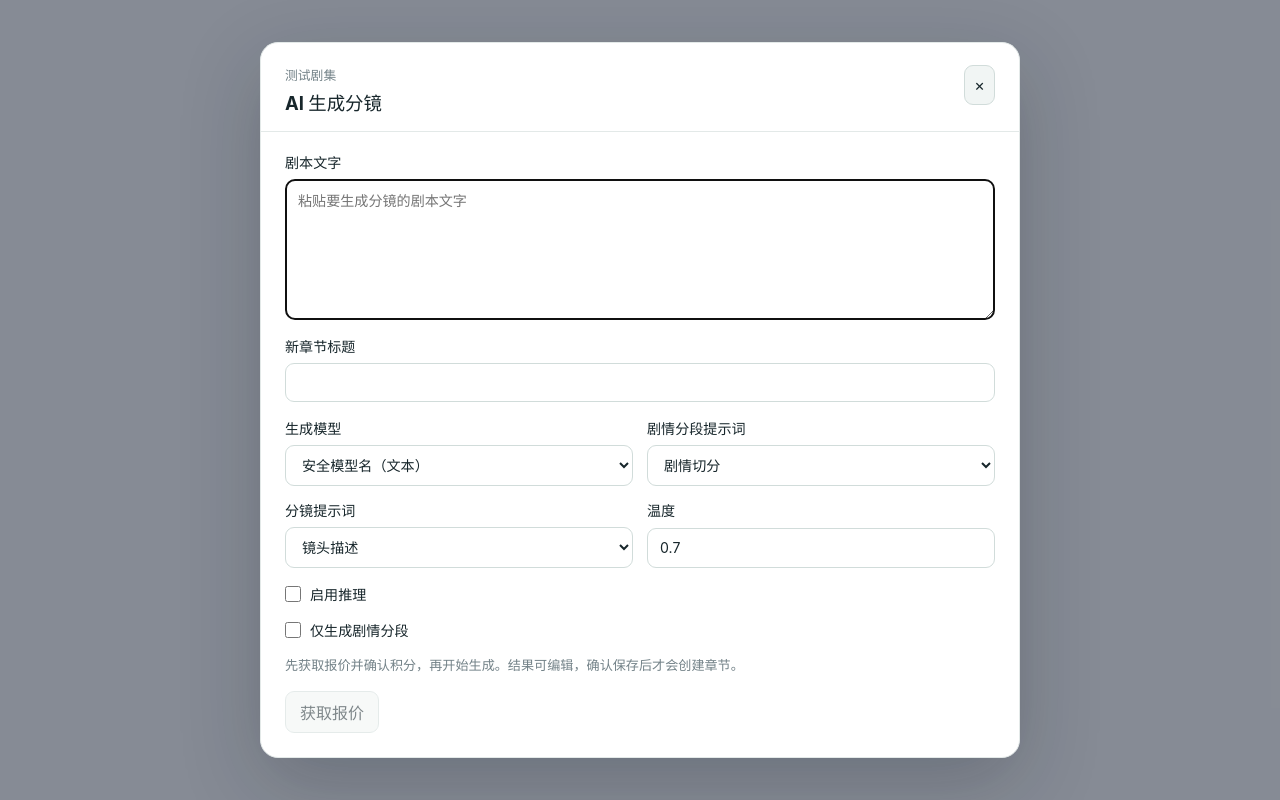
it: StoryboardGenerationDialog › freezes priced inputs while quoting and submits the quote for the captured input
Type "锁定剧本" into the text box with placeholder "粘贴要生成分镜的剧本文字" at [640, 249], box [285, 179, 995, 320]
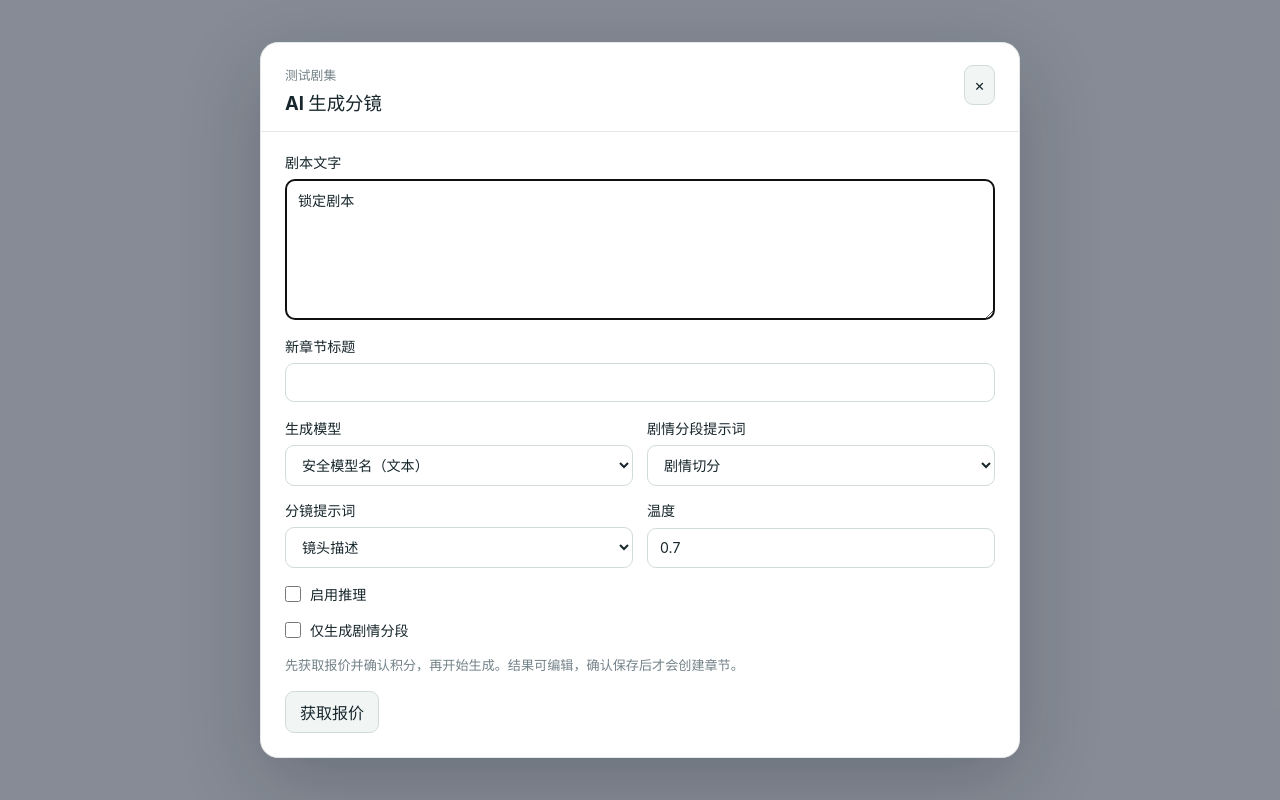
Type "报价前标题" into the field labelled "新章节标题" at [640, 382], box [285, 363, 995, 402]
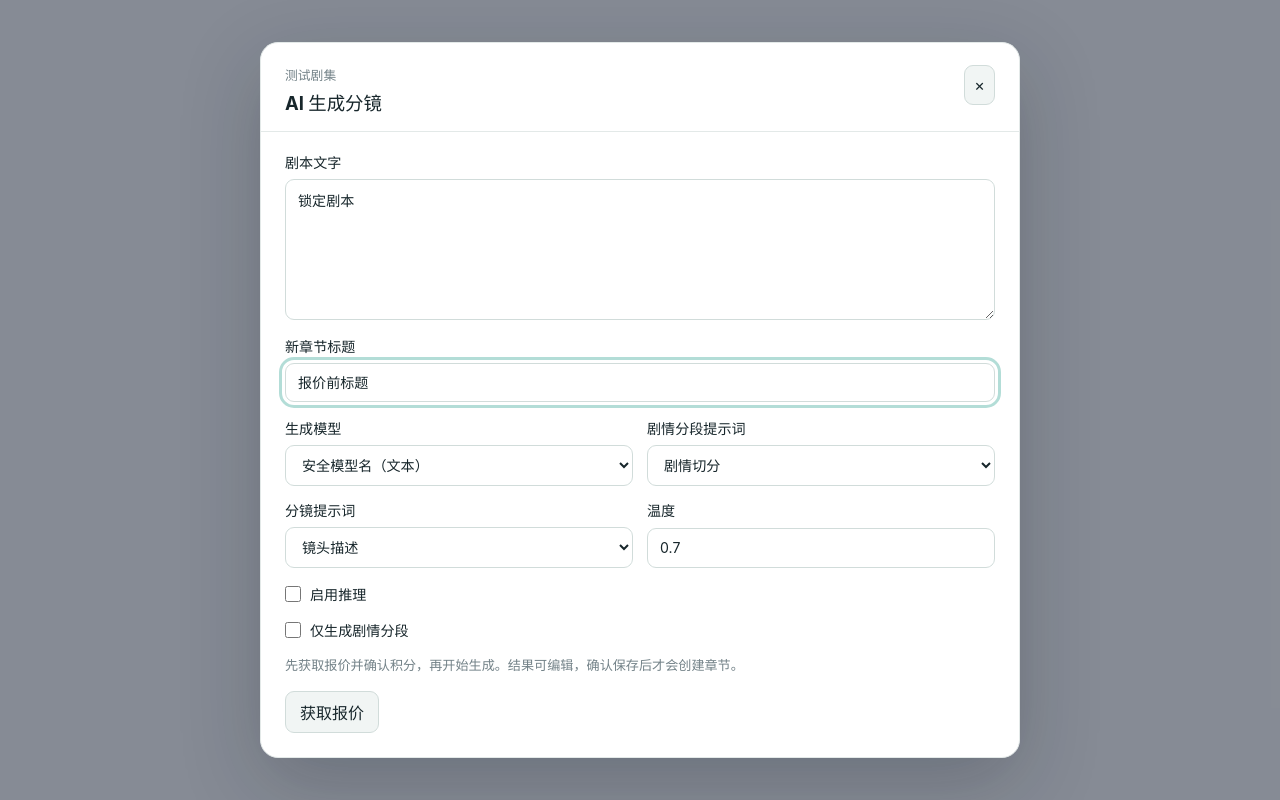
Click the button "获取报价" at [332, 712], box [285, 691, 379, 733]
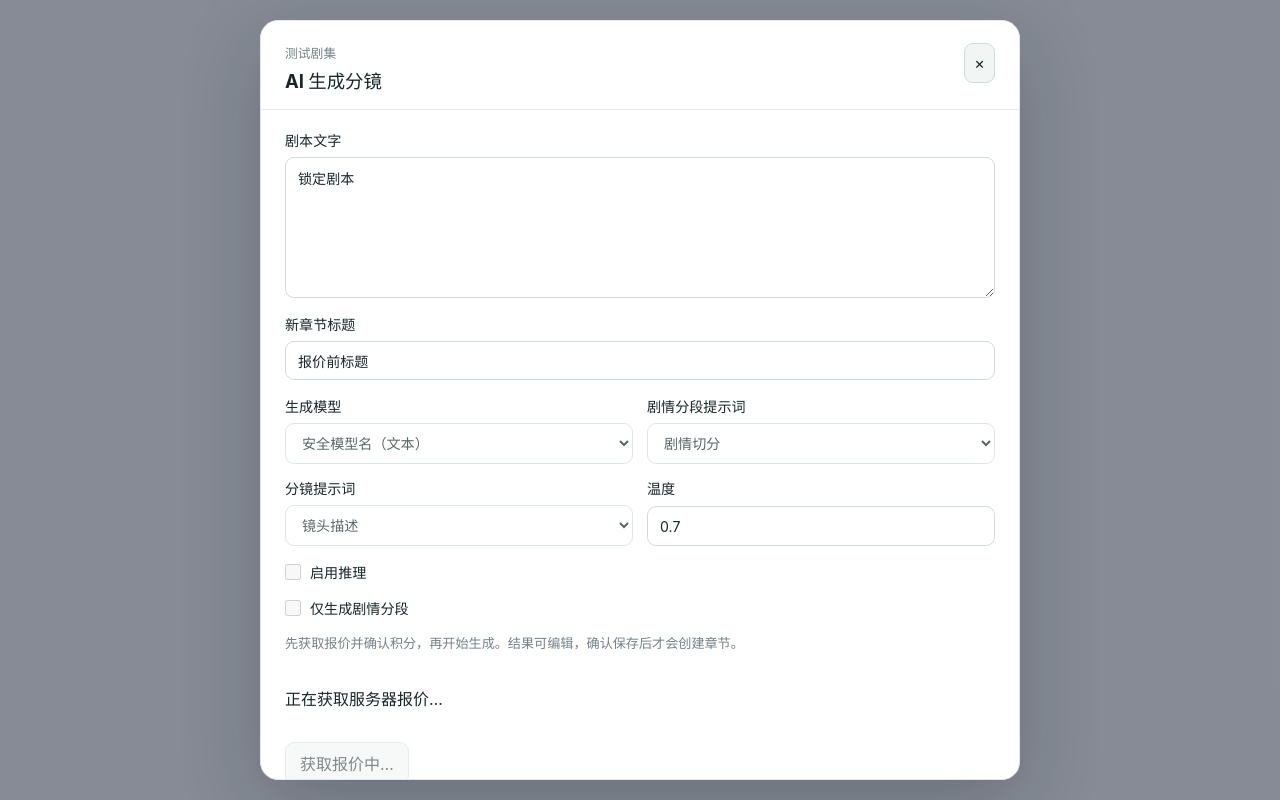
Check: the text "正在获取服务器报价…" is shown, box [285, 689, 443, 709]
Check: the text box with placeholder "粘贴要生成分镜的剧本文字" is disabled, box [285, 157, 995, 298]
Check: the dropdown labelled "生成模型" is disabled, box [285, 423, 633, 464]
Replace the text in the field labelled "新章节标题" with "报价后标题" at [640, 360], box [285, 341, 995, 380]
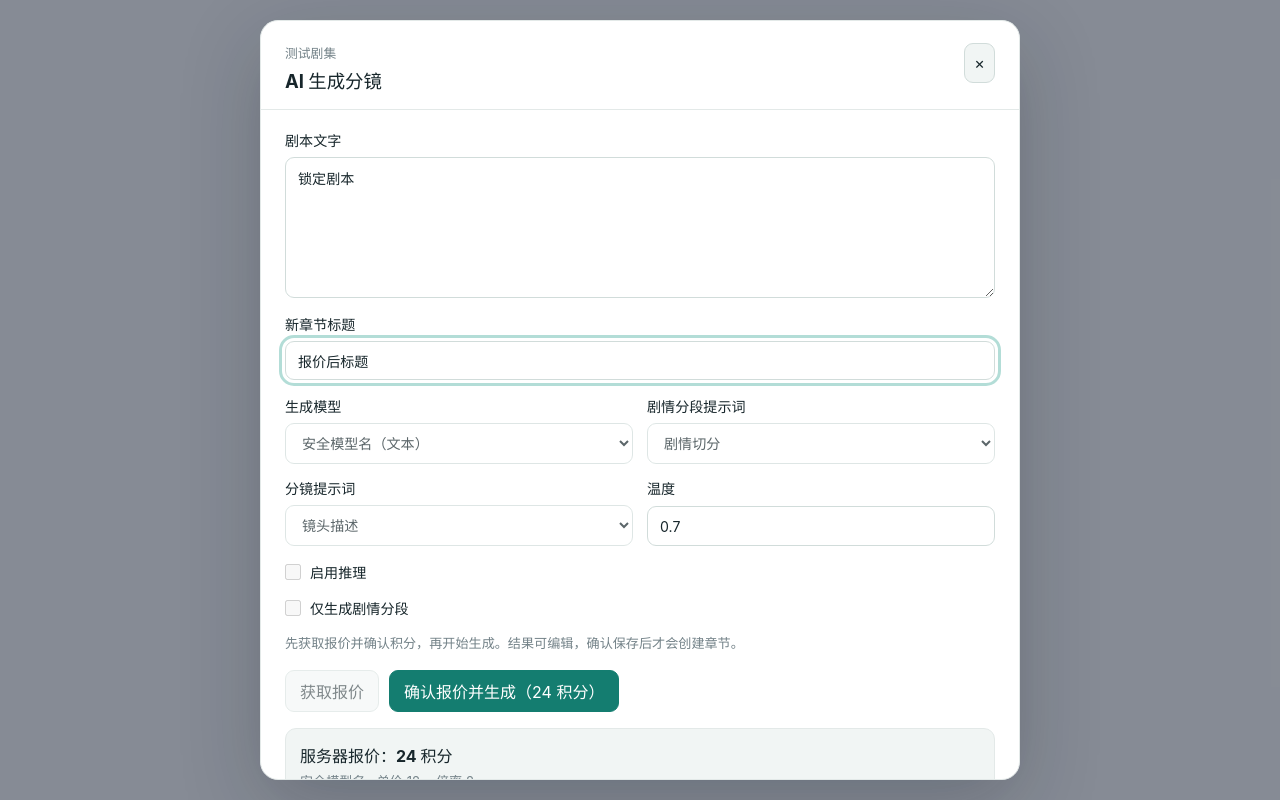
Check: the text "服务器报价：24 积分" is shown, box [300, 746, 452, 766]
Click the button "确认报价并生成（24 积分）" at [504, 691], box [389, 670, 619, 712]
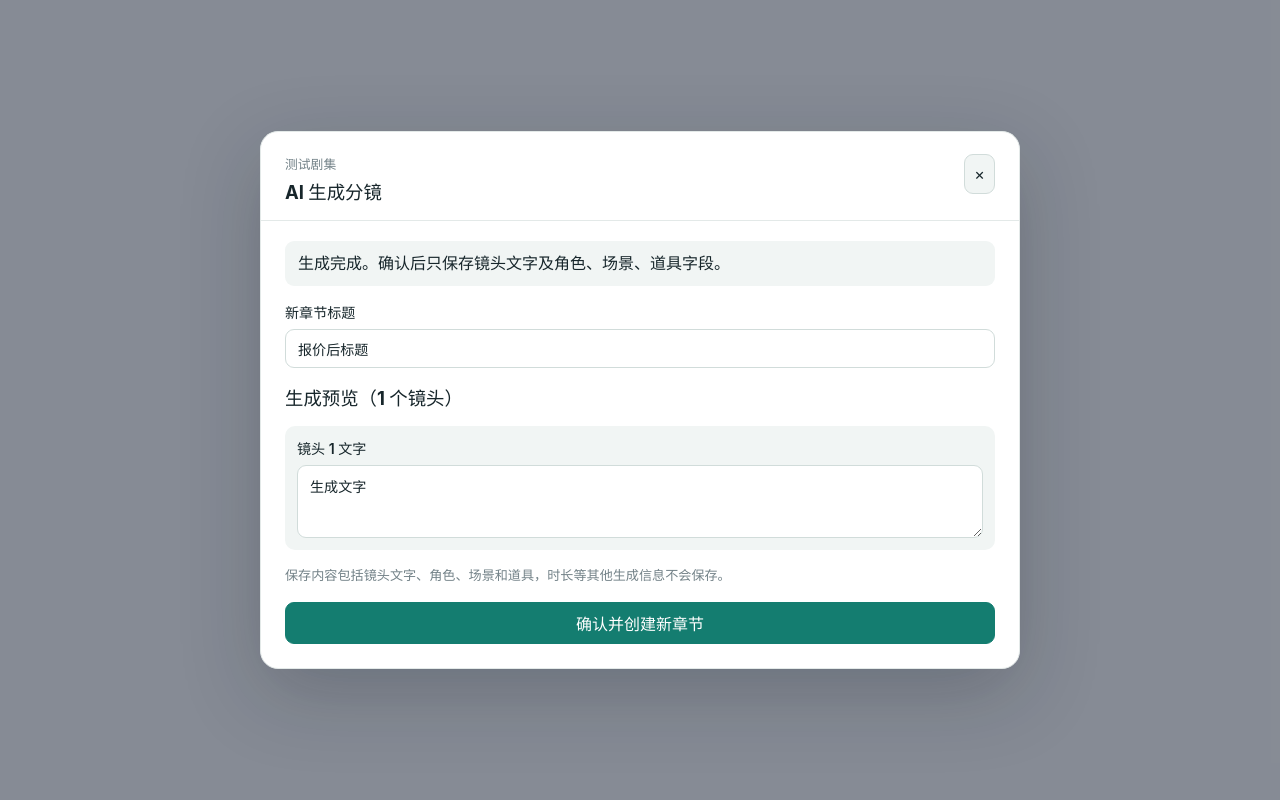
Check: the heading "生成预览（1 个镜头）" is shown, box [285, 387, 463, 409]
